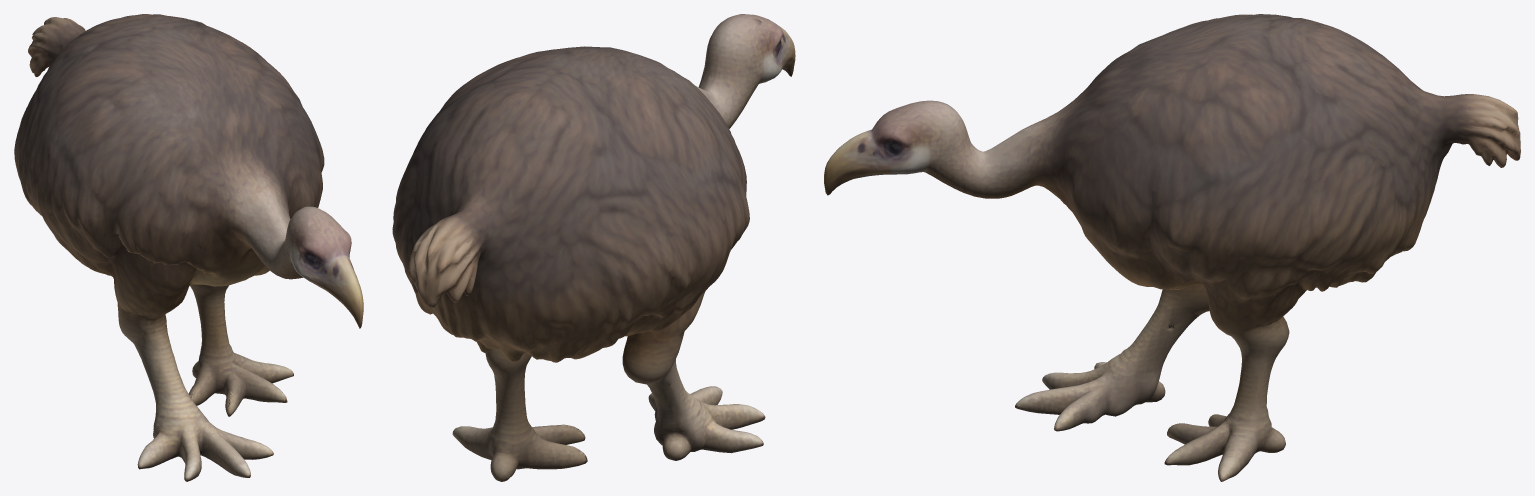
3 views of the same model, side by side, from view 1: azimuth 30°, elevation 25°; view 2: azimuth 150°, elevation 25°; view 3: azimuth 270°, elevation 25° (orthographic). The views are drawn at different scales.
Parts seen in each view (by area): view 1: world; view 2: world; view 3: world.
Part boxes in pixels (x1,y1,x2,y2): world: (14,14,363,481); world: (392,14,795,481); world: (824,14,1520,481).
Bounding box in the file's own units: 2.01 × 2.7 × 4.27.
Materials: 1 (1 with a texture image).
